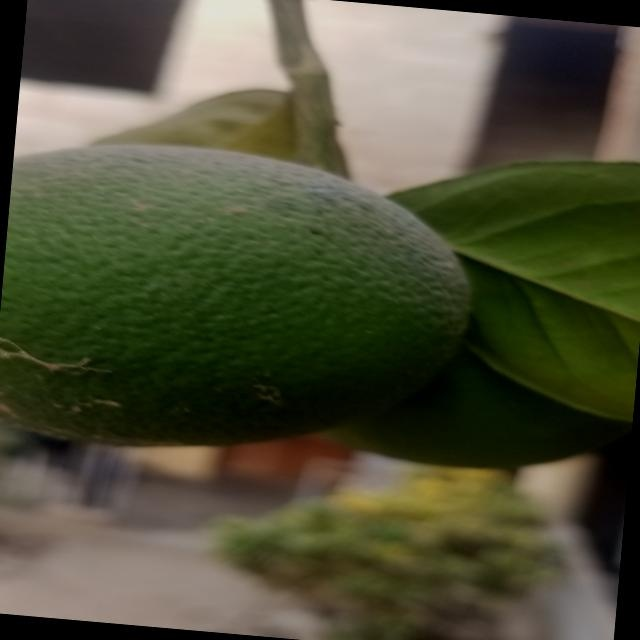agrume: (5, 128, 481, 476)
